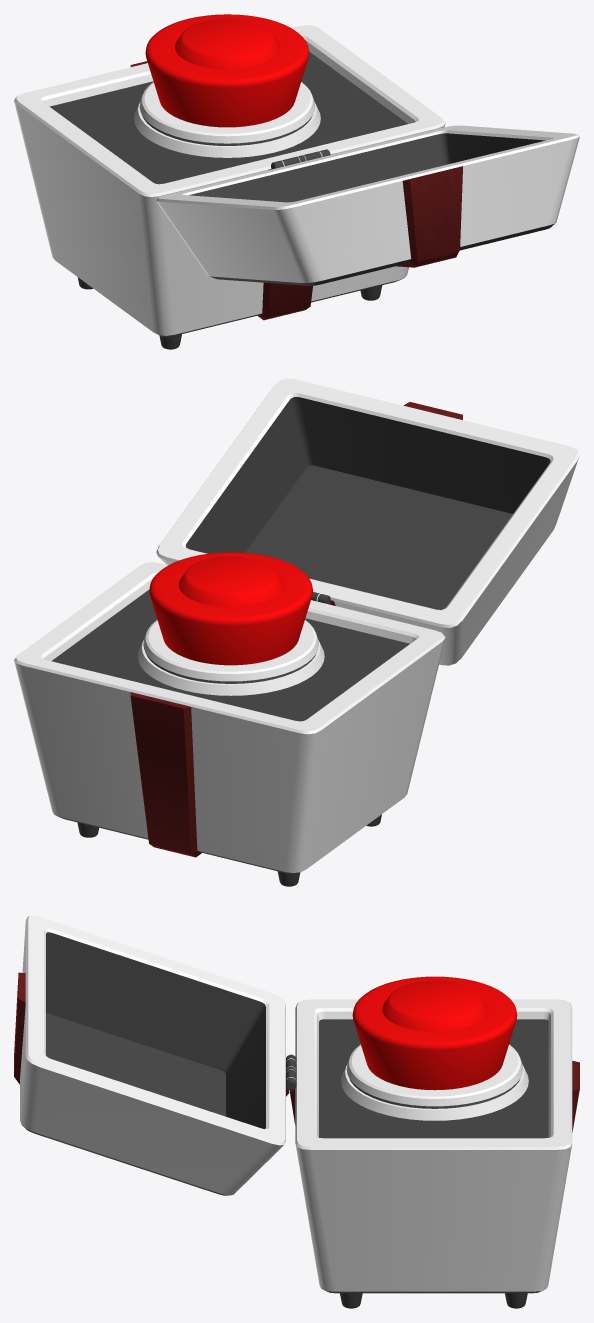
3 renders of one model, top to bottom at view 1: azimuth 30°, elevation 25°; view 2: azimuth 150°, elevation 25°; view 3: azimuth 270°, elevation 25°, orthographic.
Visible parts, largest first — view 1: node_sekibuttonbox01_-11056_3, node_SekiButtonBox01_-11074_4, node_sekibuttonbox01_button_-10976_1; view 2: node_sekibuttonbox01_-11056_3, node_SekiButtonBox01_-11074_4, node_sekibuttonbox01_button_-10976_1; view 3: node_sekibuttonbox01_-11056_3, node_SekiButtonBox01_-11074_4, node_sekibuttonbox01_button_-10976_1.
Part boxes in pixels (bbox=[...]): node_sekibuttonbox01_-11056_3: bbox=[14, 25, 445, 349]; node_SekiButtonBox01_-11074_4: bbox=[156, 125, 579, 285]; node_sekibuttonbox01_button_-10976_1: bbox=[145, 14, 309, 127]; node_sekibuttonbox01_-11056_3: bbox=[14, 562, 445, 886]; node_SekiButtonBox01_-11074_4: bbox=[156, 378, 579, 665]; node_sekibuttonbox01_button_-10976_1: bbox=[149, 552, 312, 665]; node_sekibuttonbox01_-11056_3: bbox=[290, 999, 579, 1308]; node_SekiButtonBox01_-11074_4: bbox=[14, 915, 296, 1195]; node_sekibuttonbox01_button_-10976_1: bbox=[352, 976, 517, 1090].
Size of the model in its own units: 0.3528 by 0.2991 by 0.5662.
Materials: 4 (1 with a texture image).
